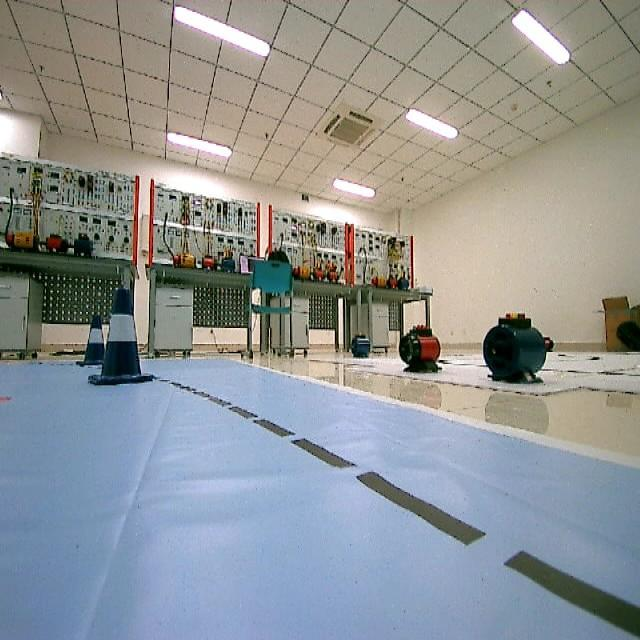obstacle: (88, 284, 154, 404), (82, 308, 112, 371)
